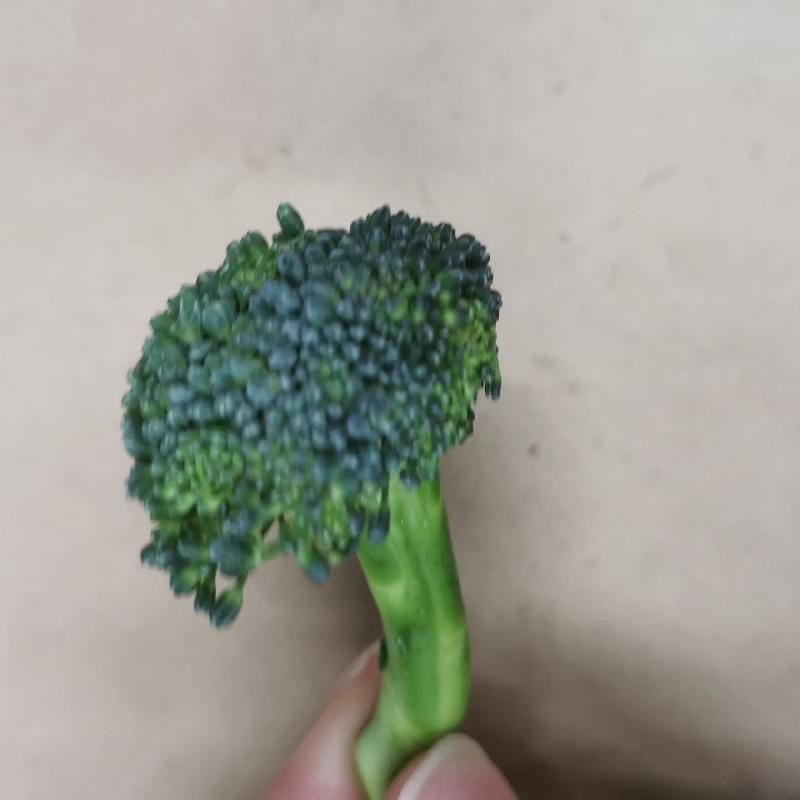broccoli: (112, 201, 511, 791)
